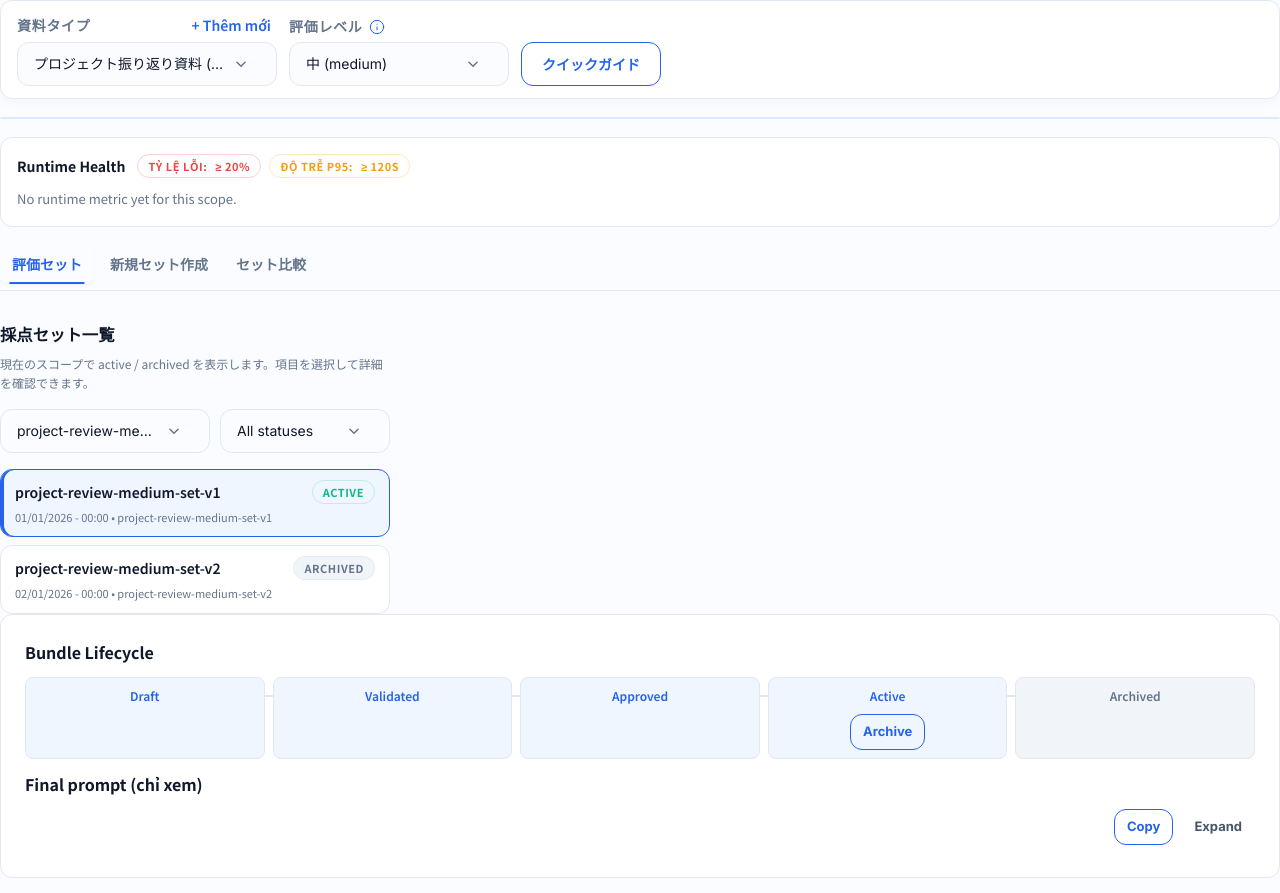
AIConfigurationConsole › renders diff highlight when selecting two sets
The image size is (1280, 893).
Click the button "セット比較".
click(271, 264)  # box [224,244,318,284]
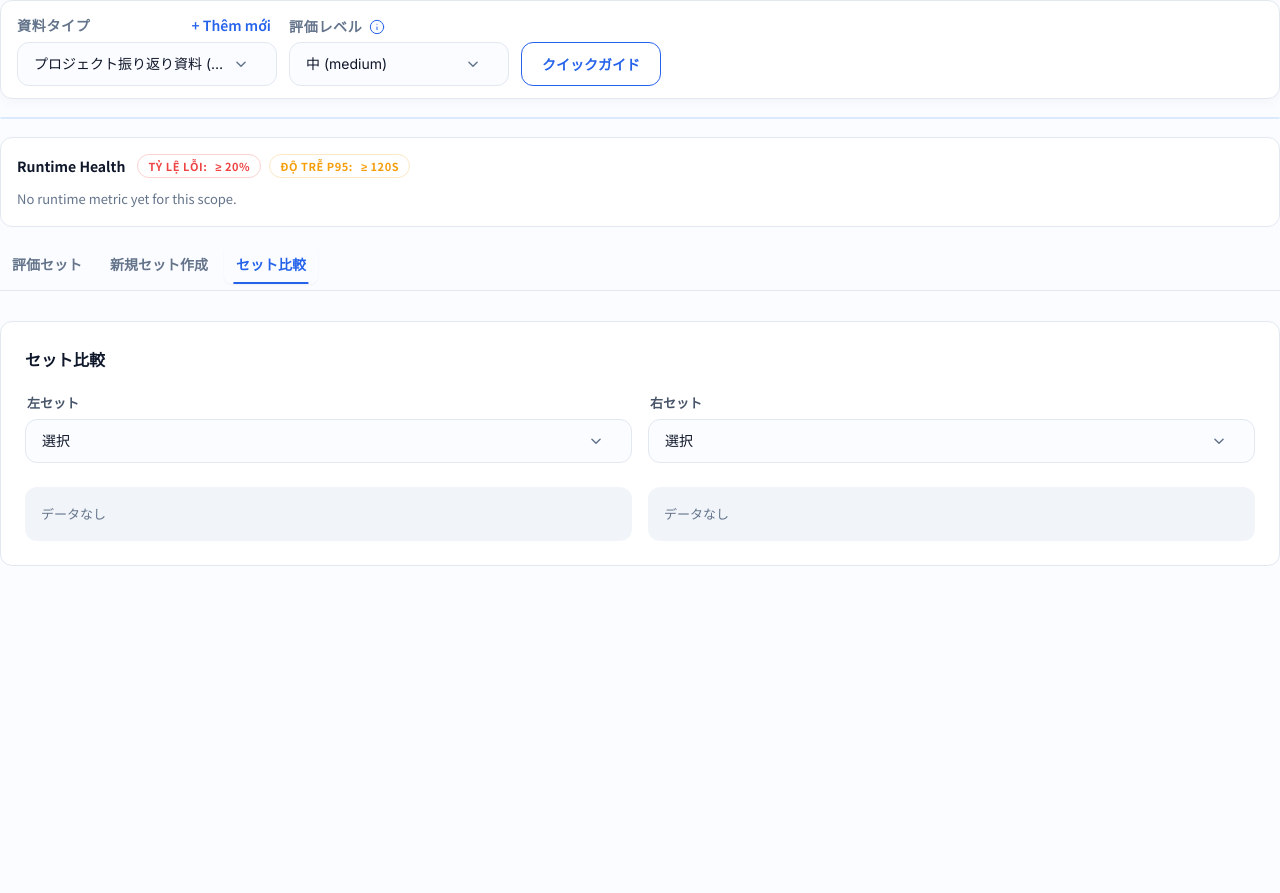
Select "project-review-medium-set-v1" in the dropdown labelled "左セット" at {"x": 328, "y": 442}, box [42,420,615,464]
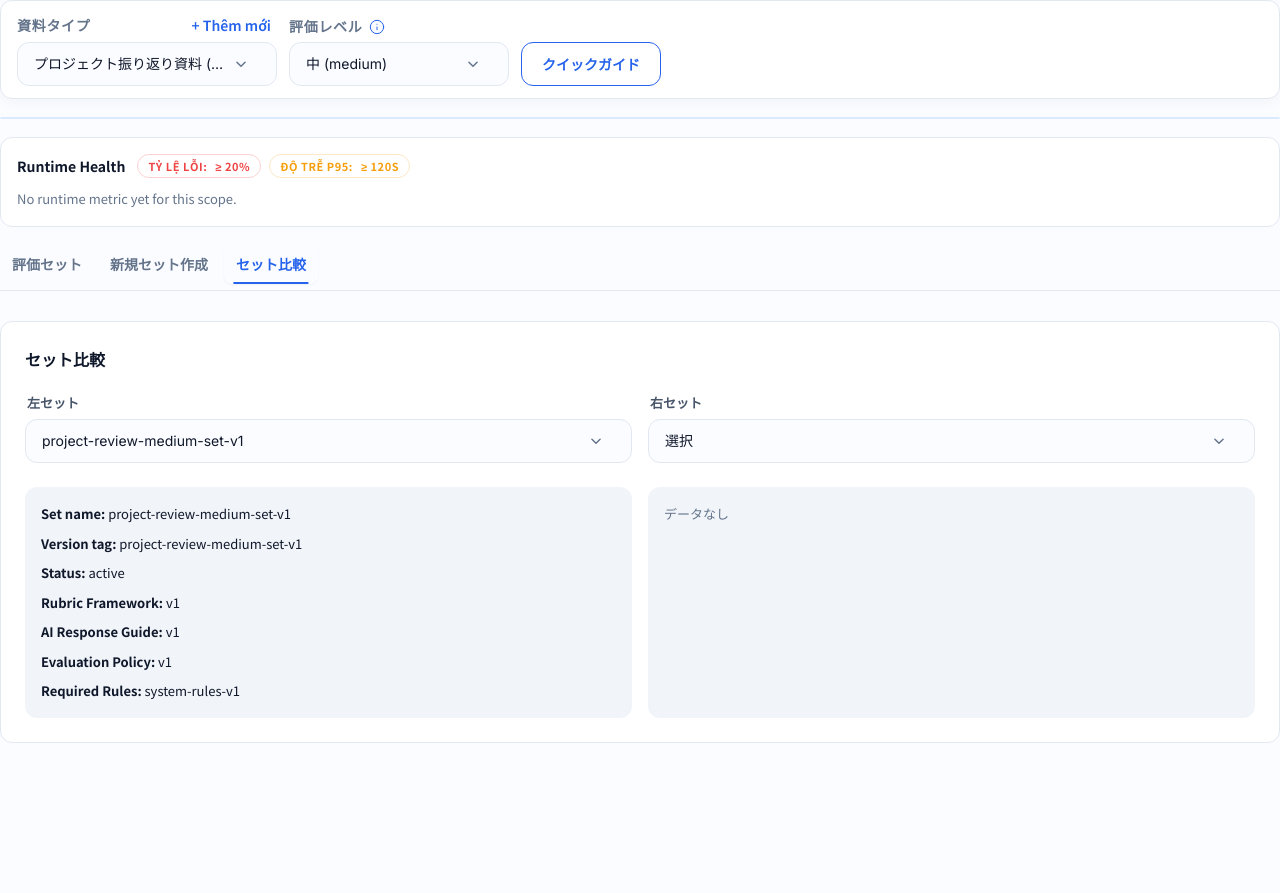
Select "project-review-medium-set-v2" in the dropdown labelled "右セット" at {"x": 952, "y": 442}, box [665,420,1238,464]
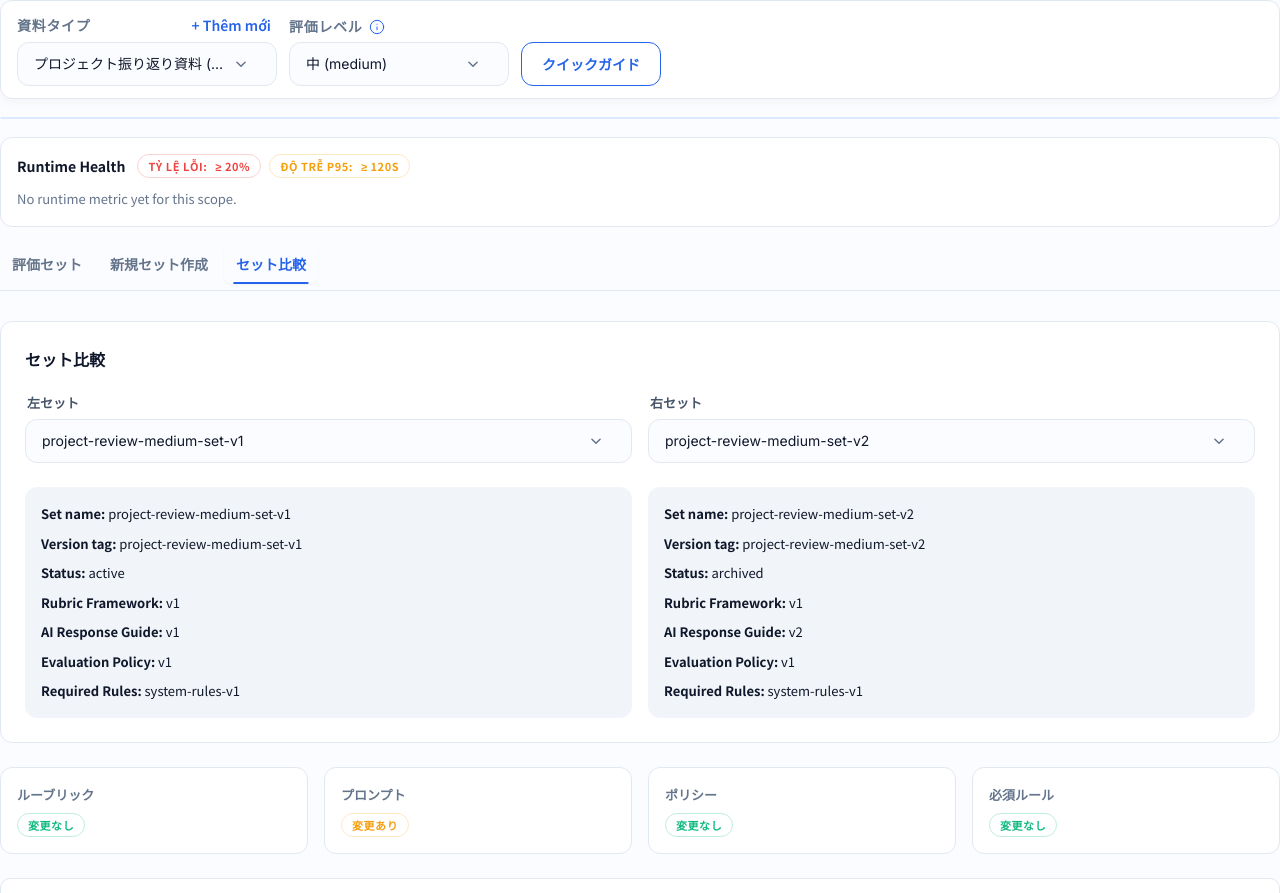
Check: the text "変更あり" is shown, box [341,814,409,838]
